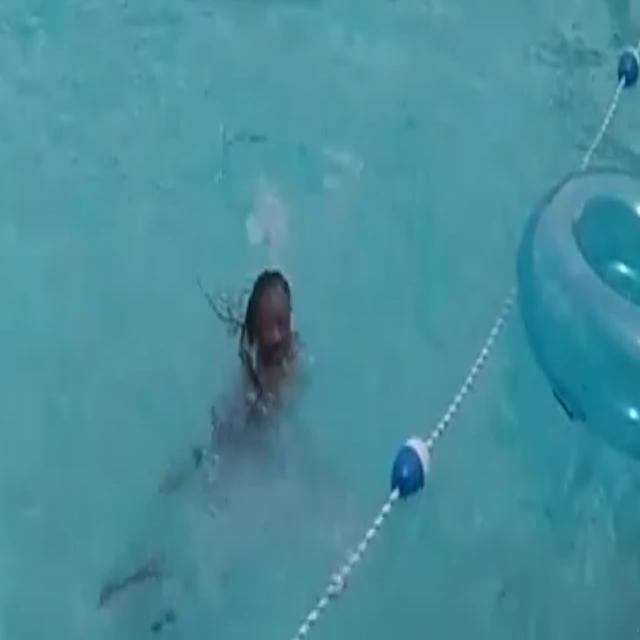Out of Water: (169, 262, 343, 488)
